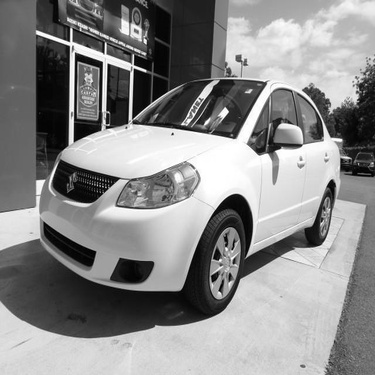car: (20, 65, 342, 302)
